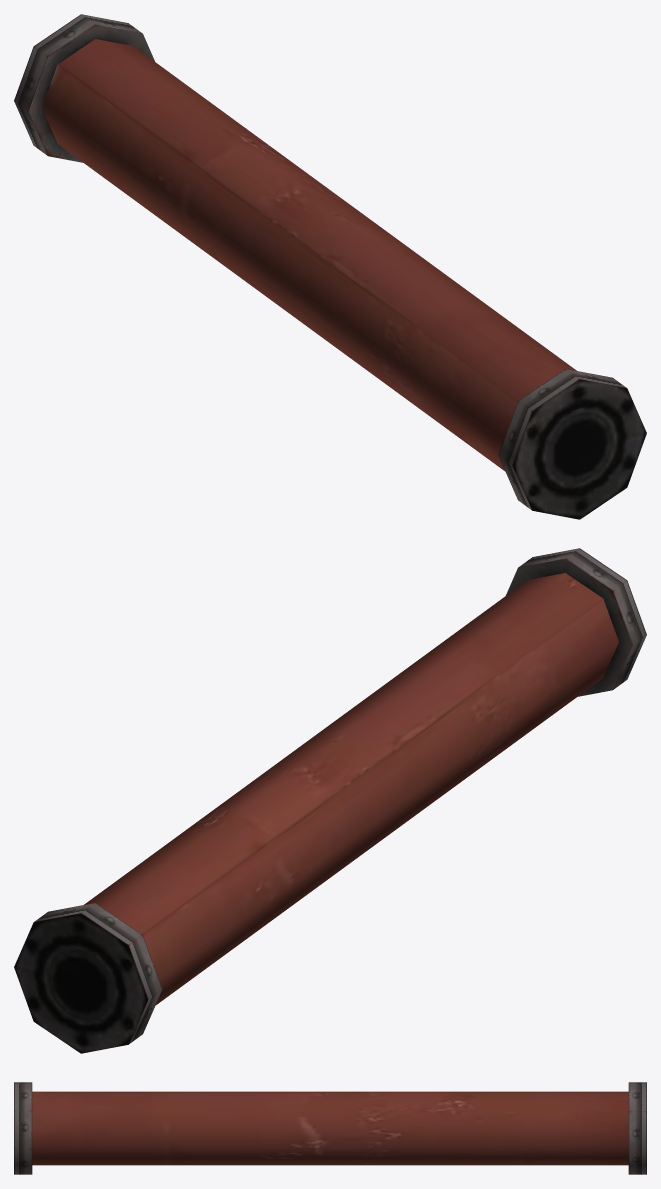
3 views of the same model, one above another, from view 1: azimuth 30°, elevation 25°; view 2: azimuth 150°, elevation 25°; view 3: azimuth 270°, elevation 25° (orthographic). The views are drawn at different scales.
Parts seen in each view (by area): view 1: body0_model0_lod0_mesh0; view 2: body0_model0_lod0_mesh0; view 3: body0_model0_lod0_mesh0.
Boxes of the visible parts, x1,y1,x2,y2 form: body0_model0_lod0_mesh0: (14,14,646,519); body0_model0_lod0_mesh0: (14,548,646,1053); body0_model0_lod0_mesh0: (14,1082,646,1174).
Bounding box in the file's own units: 9.95 × 9.95 × 64.08.
1 material, 1 textured.
